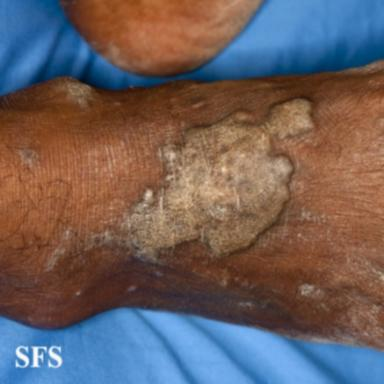lichen: (85, 99, 317, 267), (46, 227, 74, 272), (67, 83, 92, 108), (299, 284, 325, 299), (18, 148, 37, 168), (191, 98, 205, 109), (151, 270, 164, 278), (127, 285, 137, 292), (75, 291, 82, 296)
